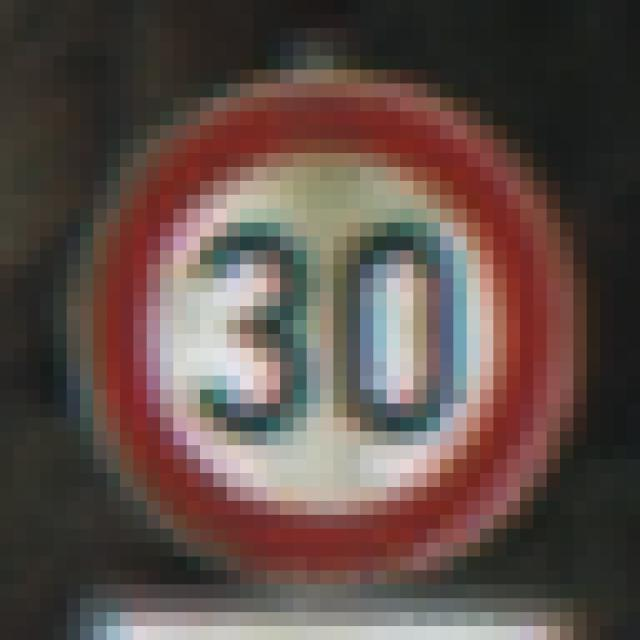Speed Limit -30-: (59, 62, 554, 564)
